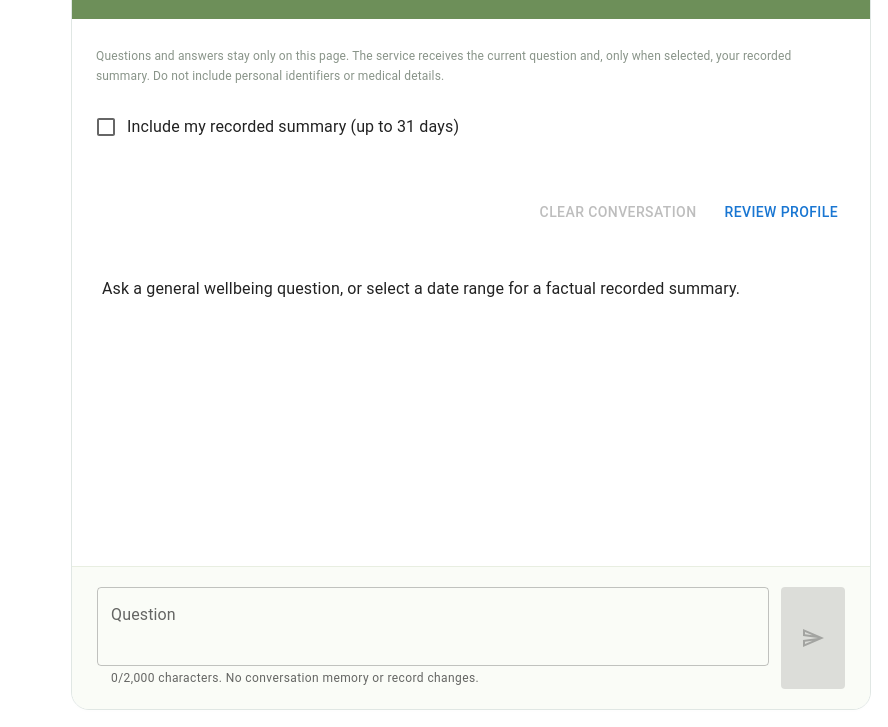
Test: A09 owner/consent-safe stateless Q&A UI with controlled API › clears previous sensitive display and aborts waiting immediately on consent withdrawal
(page scrolled)
In the text box labelled "Question": (433, 627) [111, 604, 755, 650], type "Private question before withdrawal"
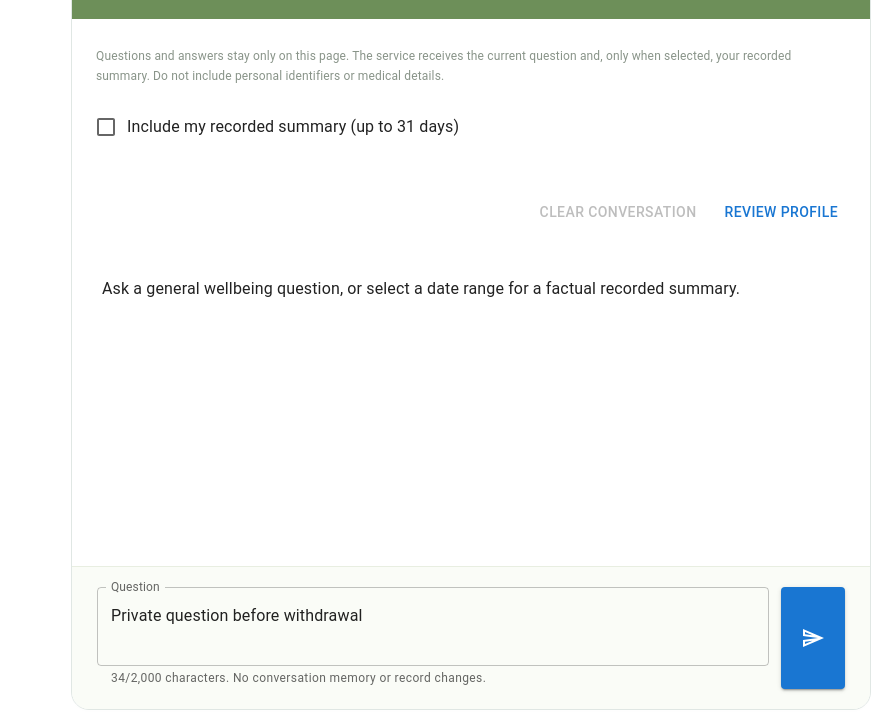
Expected: the button named "Send question" is enabled
Click the button named "Send question": (813, 638) [781, 587, 845, 689]
(page scrolled)
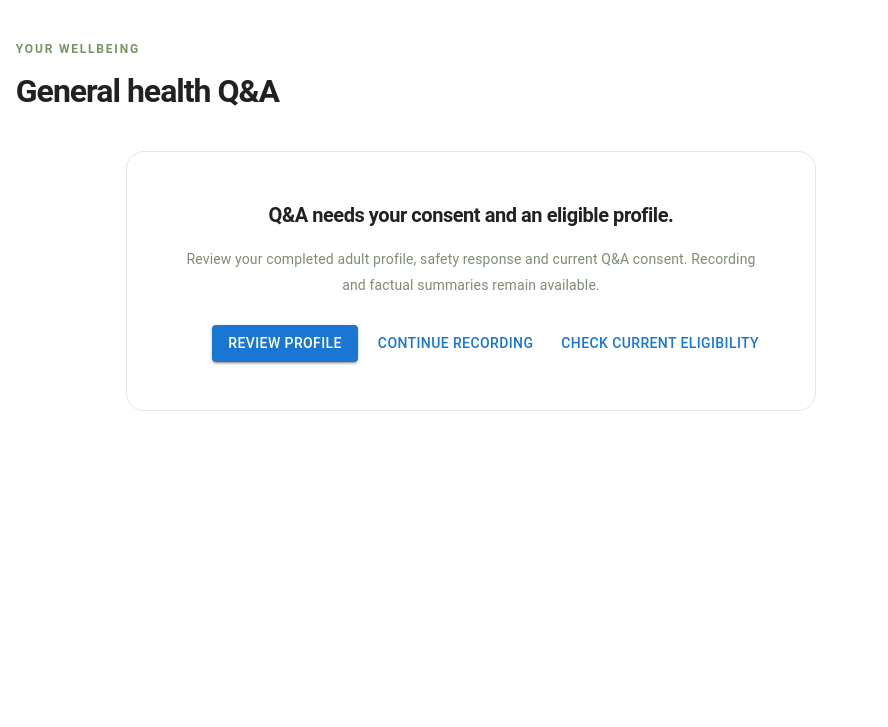
Expected: the text "Private question before withdrawal" is not shown
Expected: the heading "Q&A needs your consent and an eligible profile." is shown, [269, 203, 673, 227]
